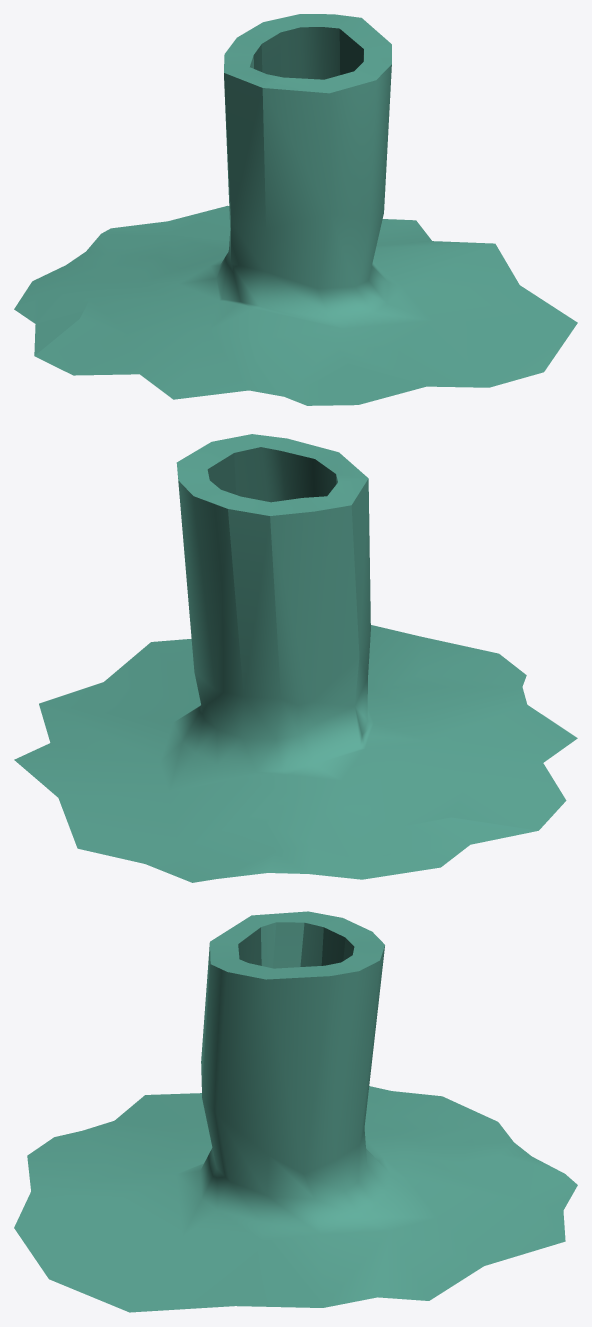
The model's file is coral_tube_B_mini.fbx.
3 views of the same model, one above another, from view 1: azimuth 30°, elevation 25°; view 2: azimuth 150°, elevation 25°; view 3: azimuth 270°, elevation 25° (orthographic). The views are drawn at different scales.
Visible parts, largest first — view 1: coral_tube_B_mini; view 2: coral_tube_B_mini; view 3: coral_tube_B_mini.
Boxes of the visible parts, left/top/right/bottom form: coral_tube_B_mini: left=14, top=14, right=577, bottom=405; coral_tube_B_mini: left=14, top=434, right=577, bottom=882; coral_tube_B_mini: left=14, top=911, right=577, bottom=1312.
Size of the model in its own units: 32.42 by 18.05 by 33.05.
